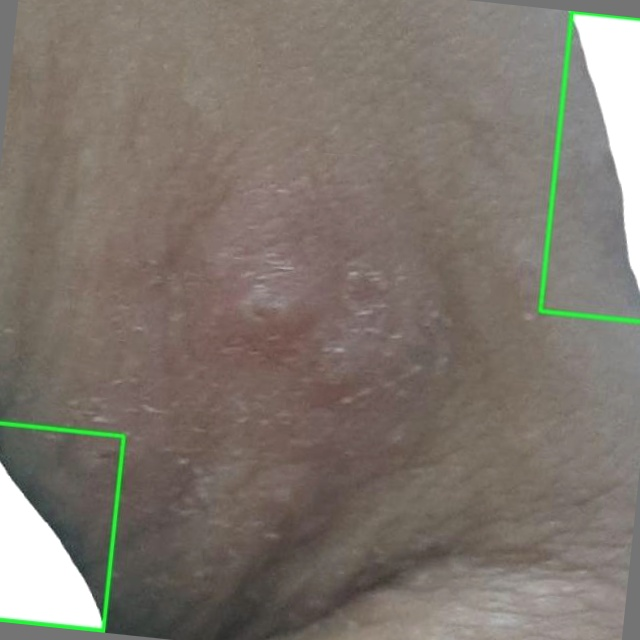Scabies: (540, 11, 639, 321), (0, 424, 123, 631)
